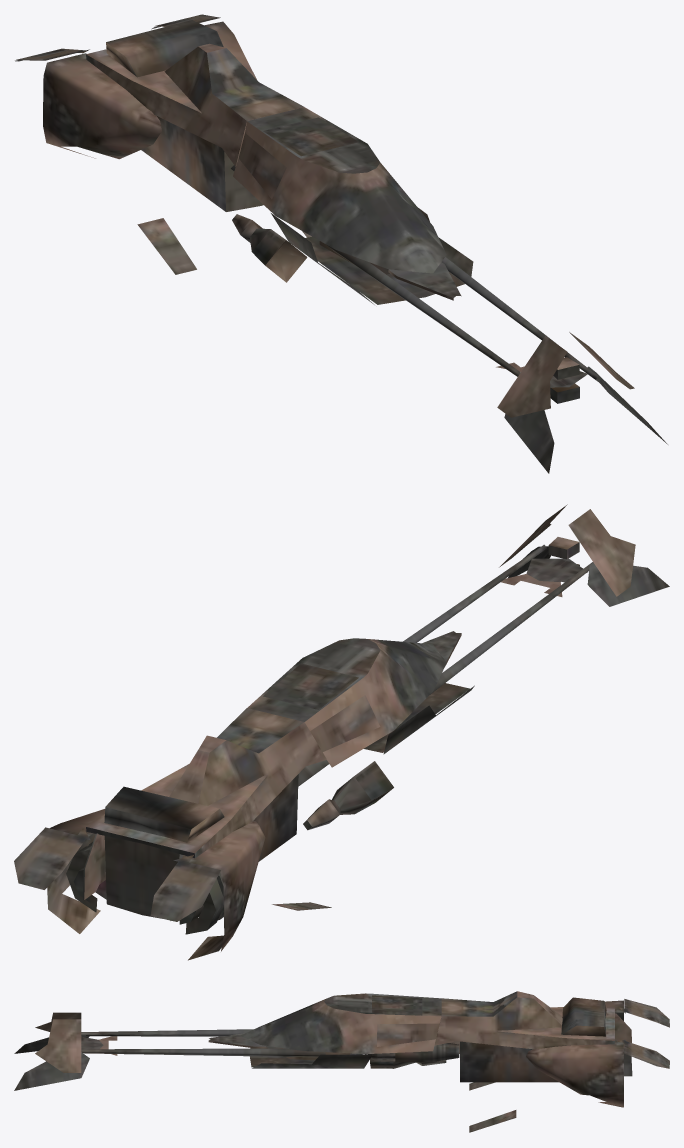
File: speederbike.far.glb
The picture shows the model from 3 angles, top to bottom: view 1: azimuth 30°, elevation 25°; view 2: azimuth 150°, elevation 25°; view 3: azimuth 270°, elevation 25°; orthographic projection. The views are drawn at different scales.
Bounding box in the file's own units: 1.22 × 1.12 × 5.76.
1 material, 1 textured.
